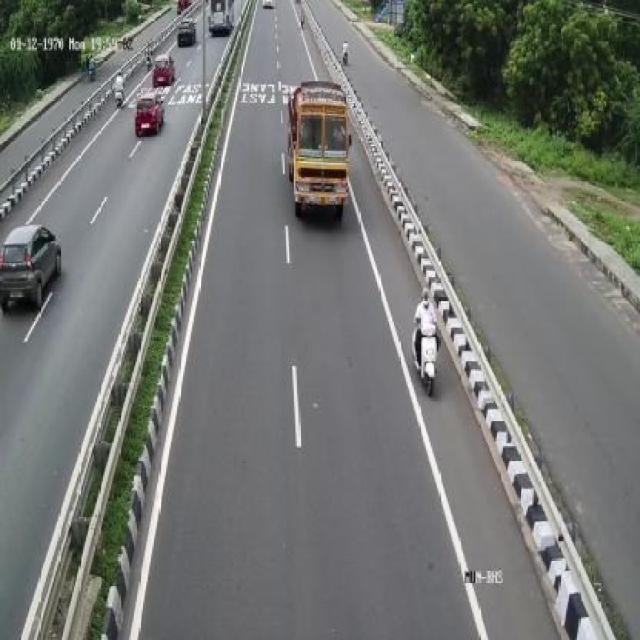car: (3, 216, 63, 316), (412, 294, 445, 395), (123, 91, 168, 135), (151, 56, 175, 86)
